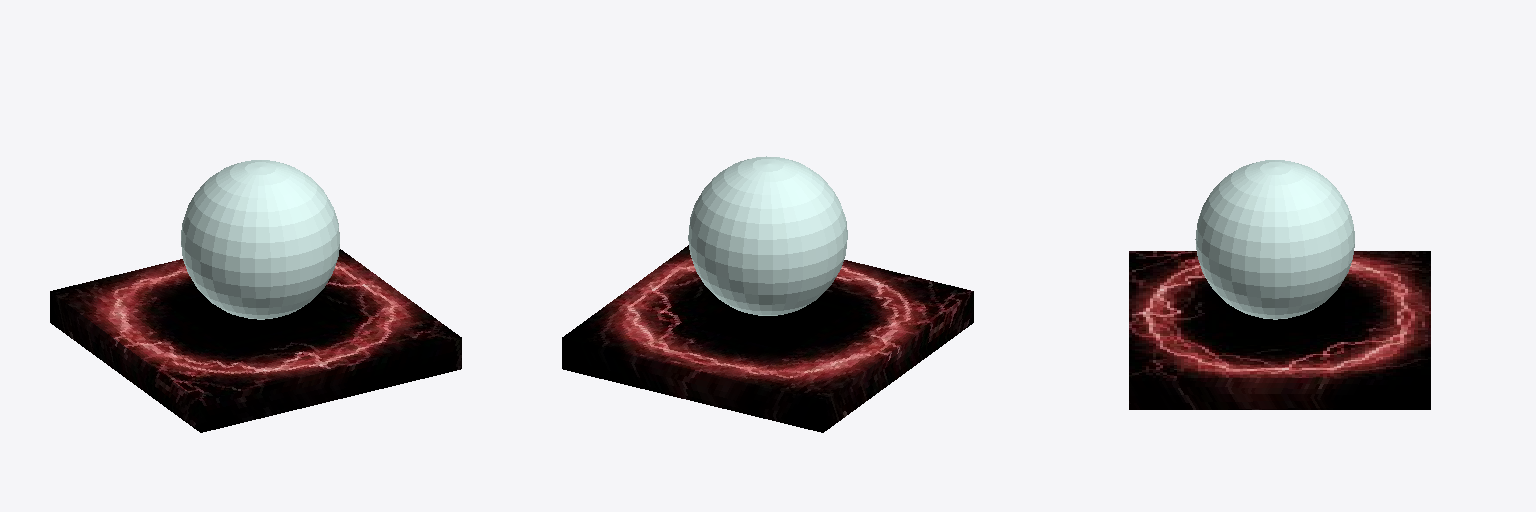
3 renders of one model, left to right at view 1: azimuth 30°, elevation 25°; view 2: azimuth 150°, elevation 25°; view 3: azimuth 270°, elevation 25°, orthographic.
Visible parts, largest first — view 1: Cylinder; view 2: Cylinder; view 3: Cylinder.
Boxes of the visible parts, x1,y1,x2,y2 form: Cylinder: [50, 160, 461, 432]; Cylinder: [562, 156, 973, 432]; Cylinder: [1129, 160, 1430, 409].
Size of the model in its own units: 2 by 1.31 by 2.
2 materials, 1 textured.